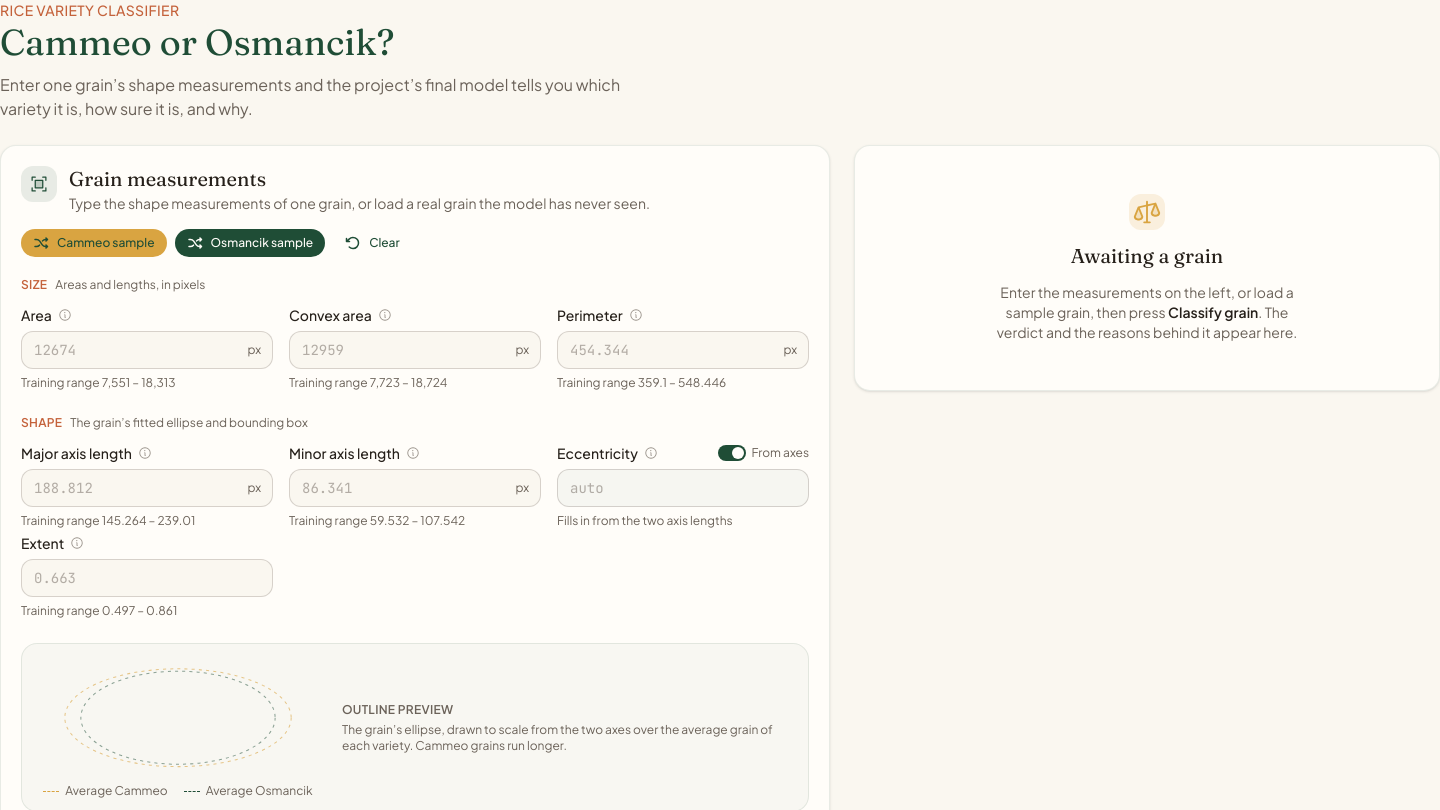
Test case: ClassifyPage › classifies typed measurements and explains the result
The width and height of the screenshot is (1440, 810).
Type "15231" into the field labelled "Area".
click(147, 350); type("15231")  # box [21,331,273,369]
Type "15617" into the field labelled "Convex area".
click(415, 350); type("15617")  # box [289,331,541,369]
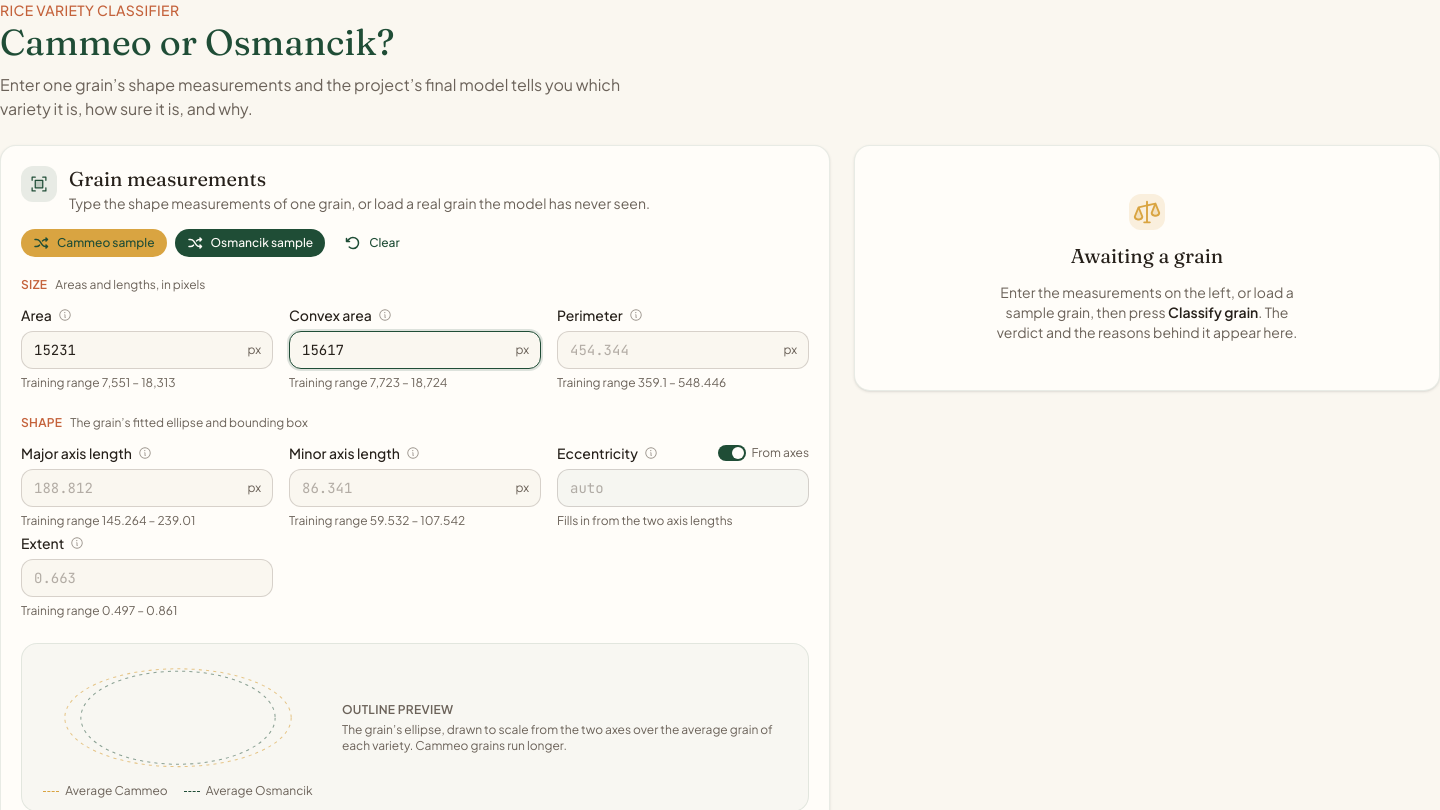
Type "525.579" into the field labelled "Perimeter".
click(683, 350); type("525.579")  # box [557,331,809,369]
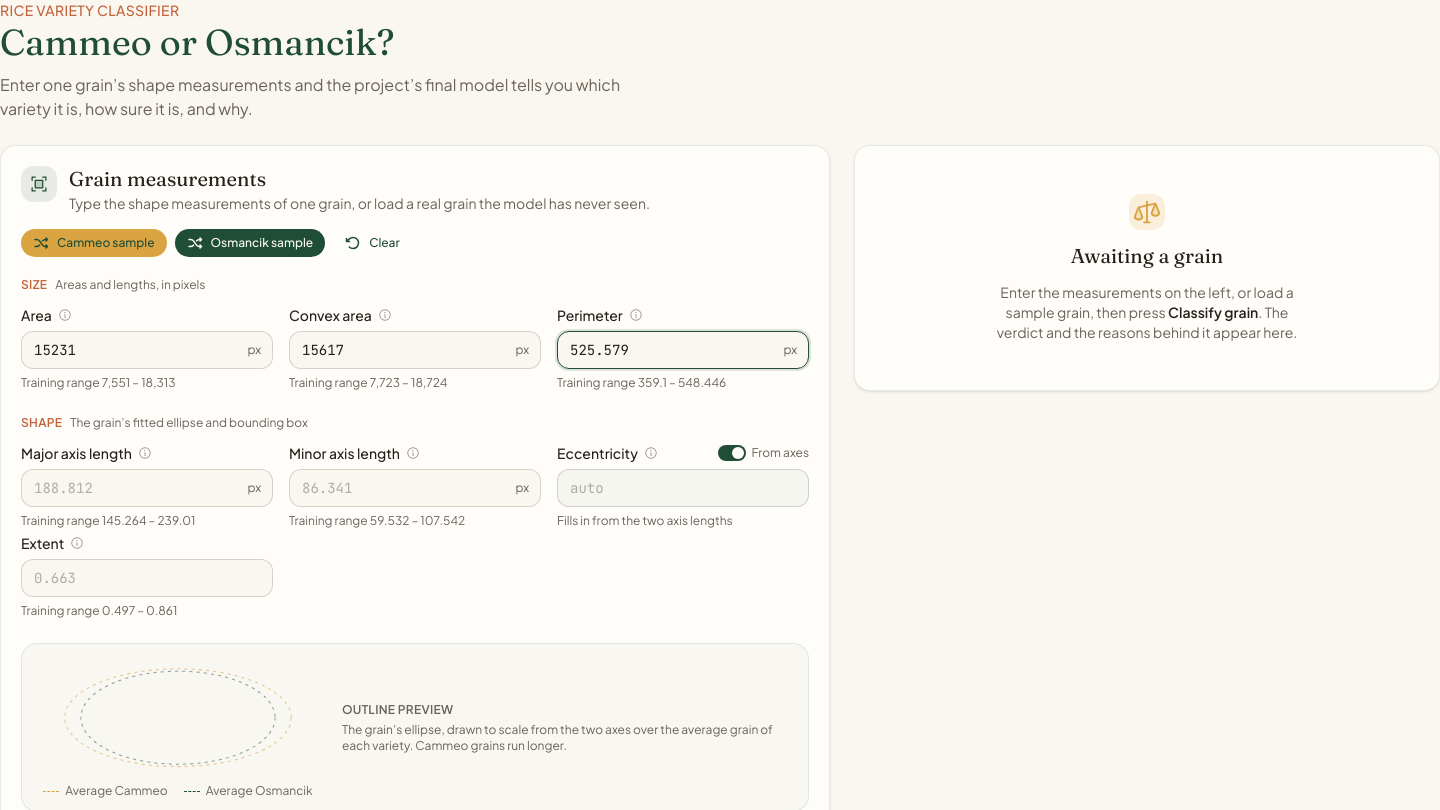
Type "229.7499" into the field labelled "Major axis length".
click(147, 488); type("229.7499")  # box [21,469,273,507]
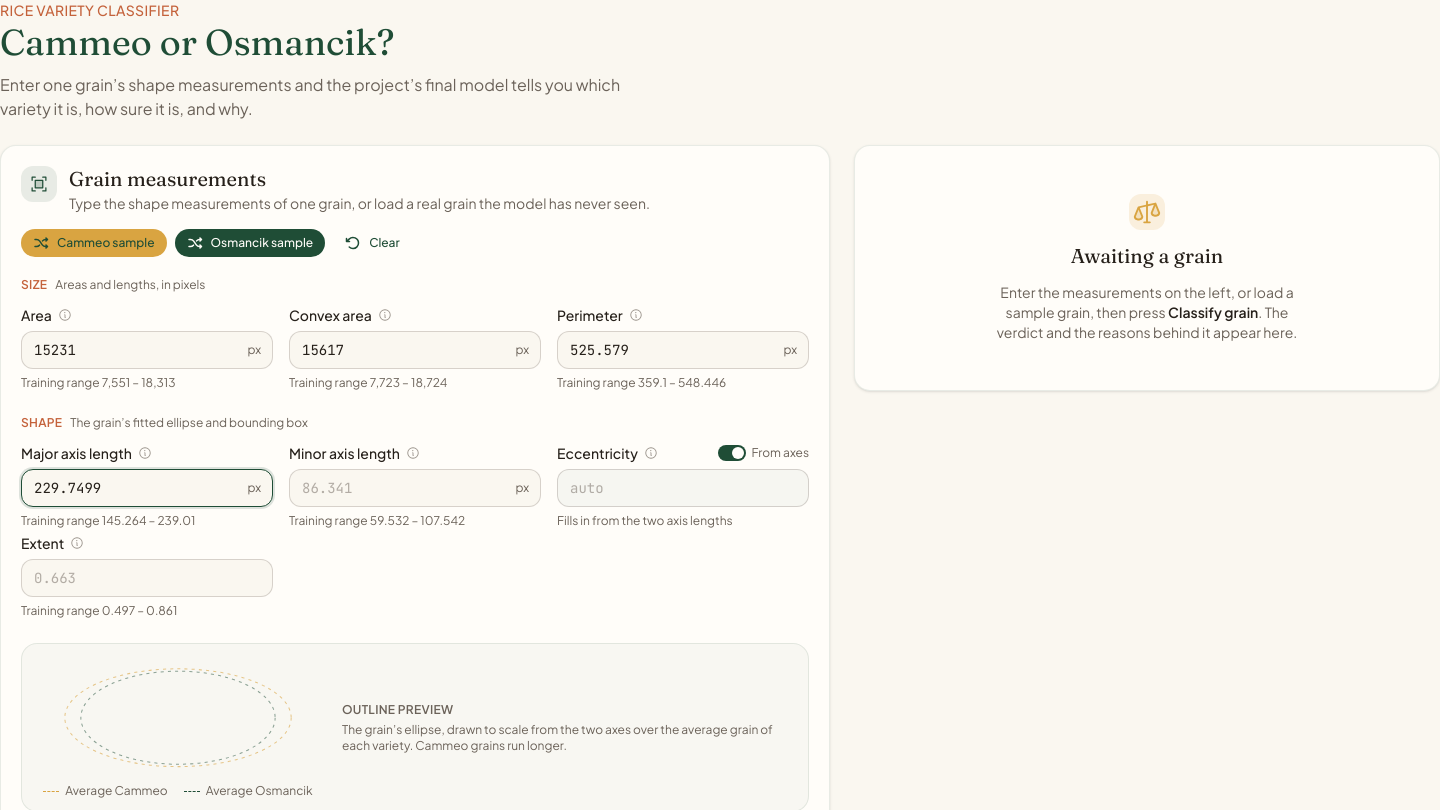
Type "85.0932" into the field labelled "Minor axis length".
click(415, 488); type("85.0932")  # box [289,469,541,507]
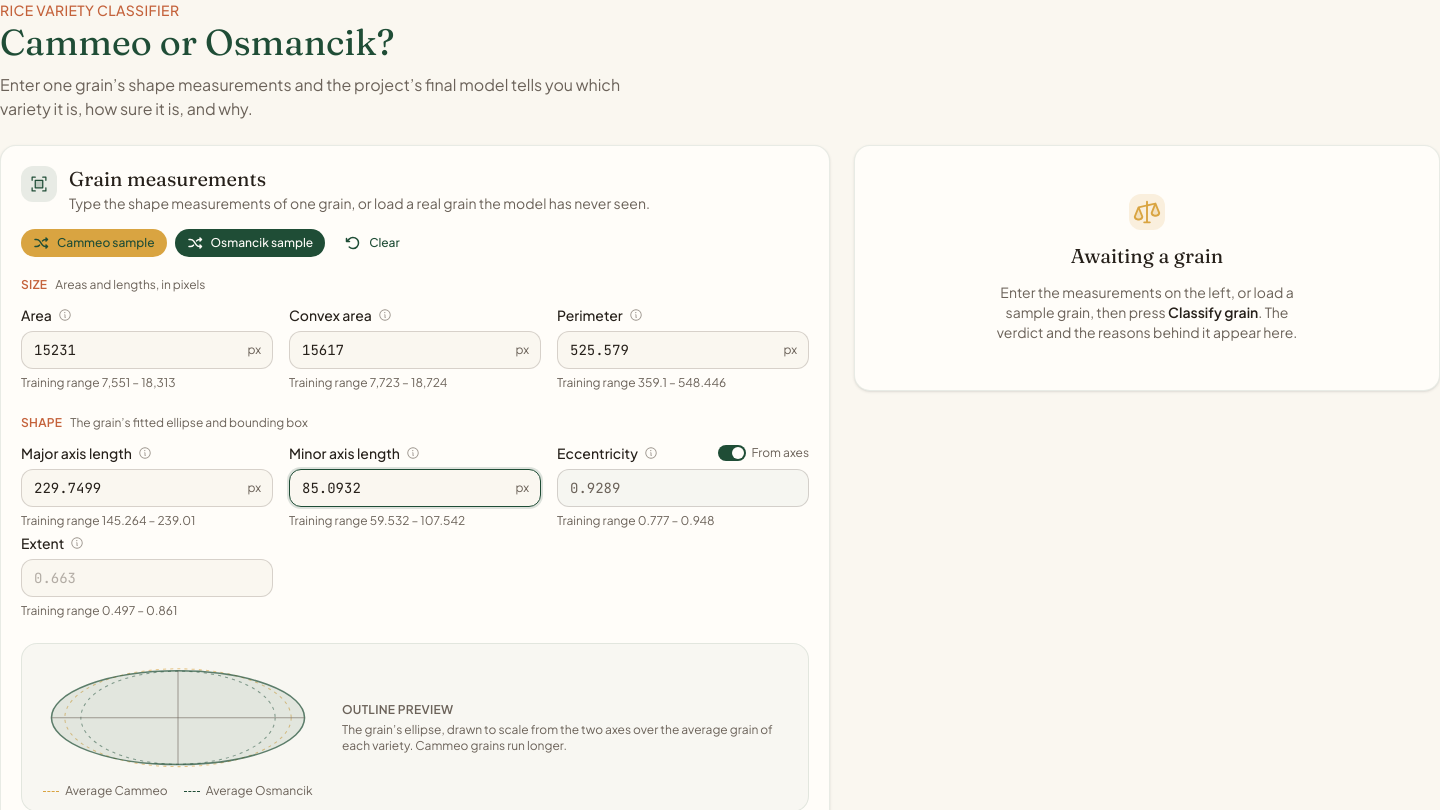
Type "0.5729" into the field labelled "Extent".
click(147, 578); type("0.5729")  # box [21,559,273,597]
(page scrolled)
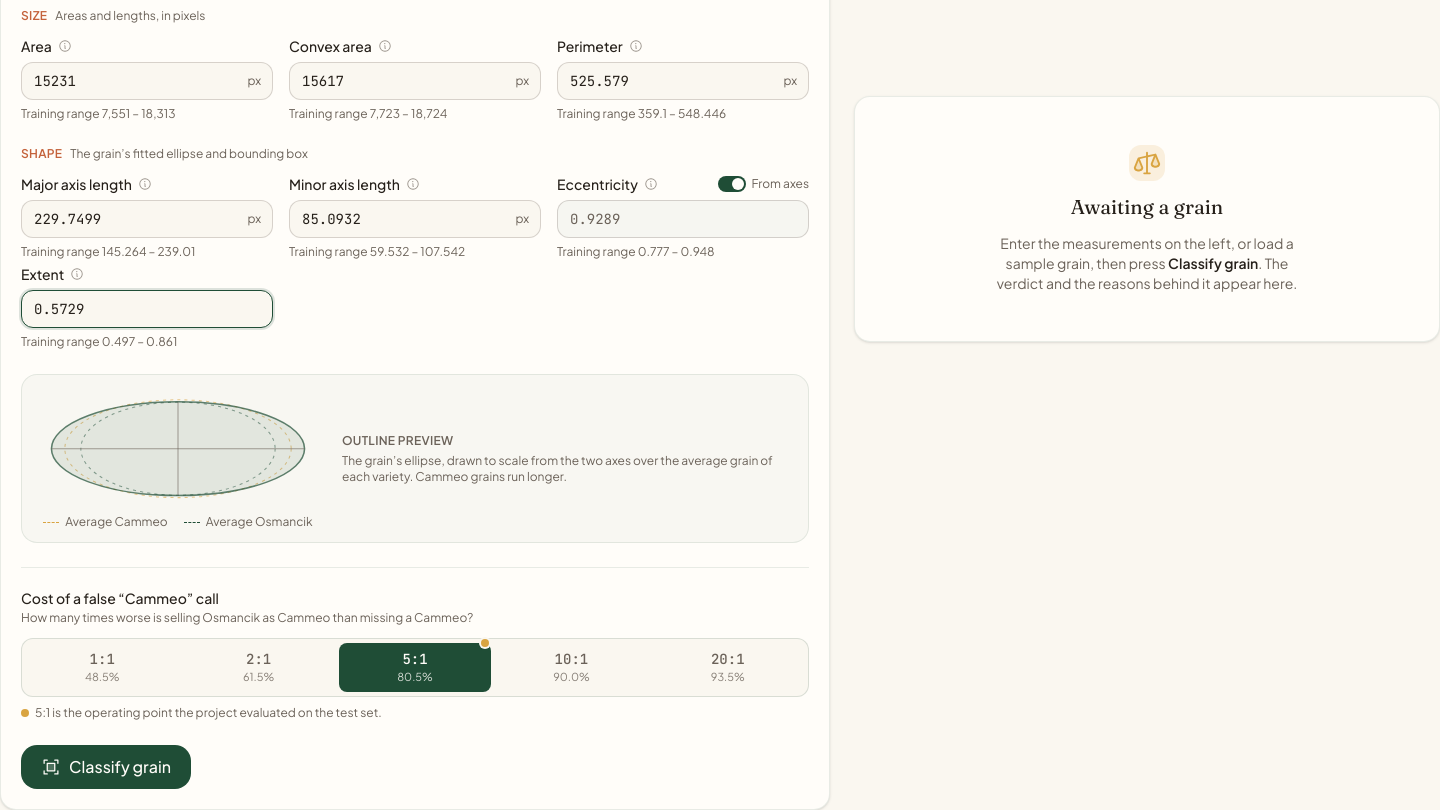
Now the field labelled "Eccentricity" holds "0.9289", box [557,200,809,238]
Click the button "Classify grain".
click(106, 767)  # box [21,745,191,789]
(page scrolled)
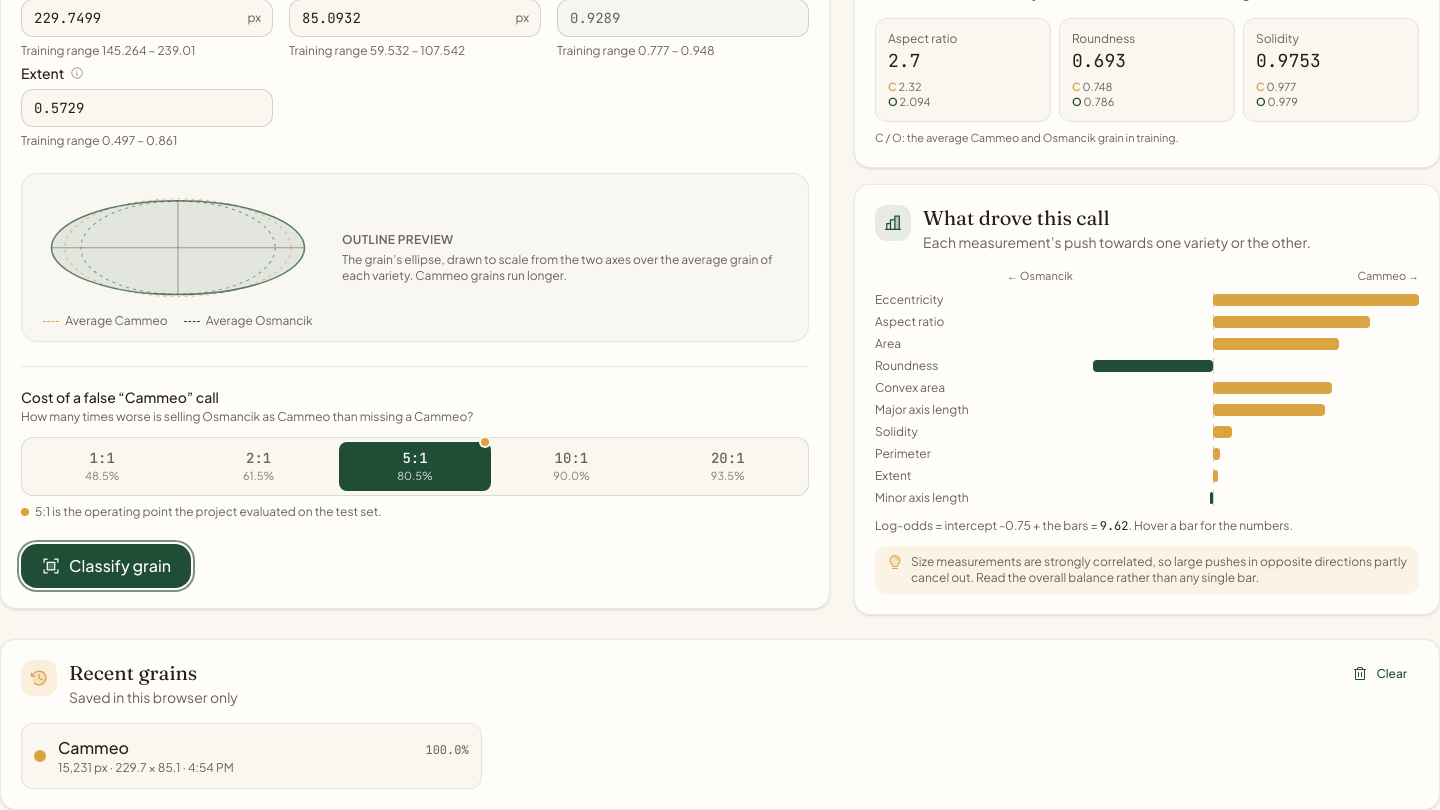
Now the heading "What drove this call" is shown, box [923,205,1110,230]
Now the heading "Recent grains" is shown, box [69,660,197,685]
